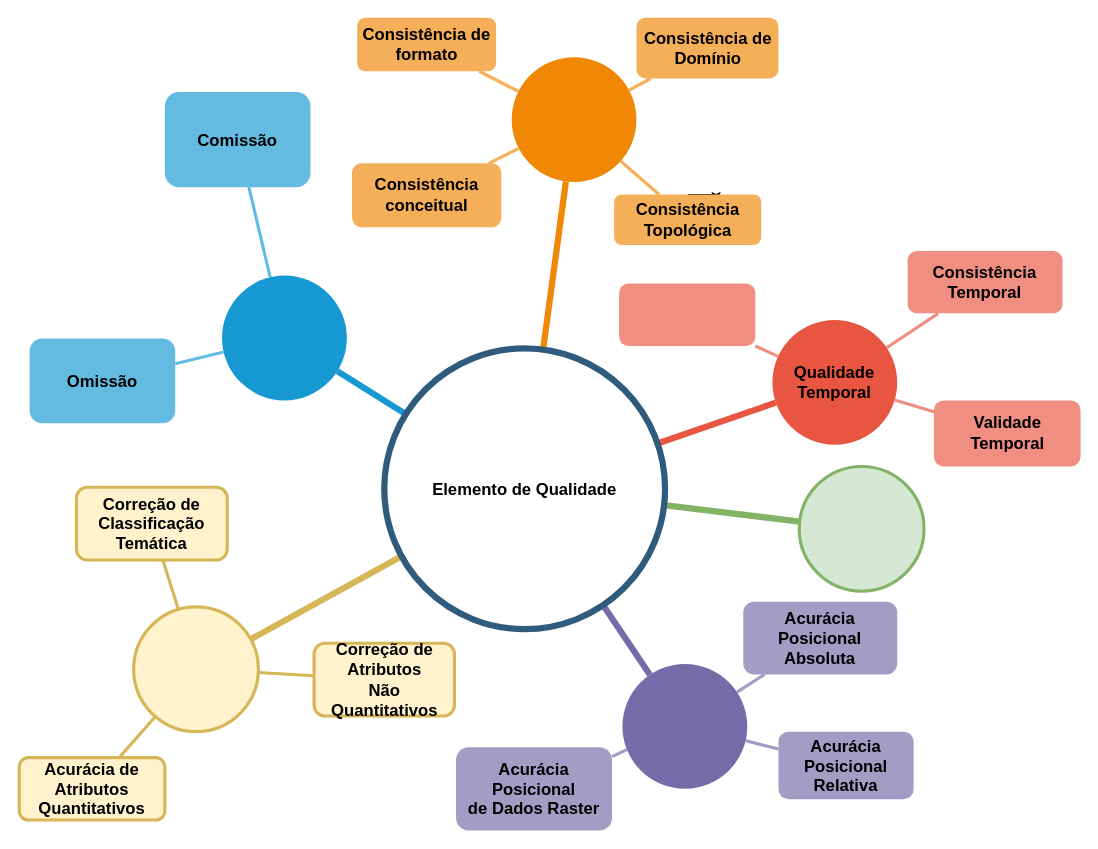
The diagram is 1098 pixels wide and 849 high, and some of its shapes have lost their labels. Each missing label, with the centre of its shape:
"Acurácia de Medição do Tempo" belongs at pixel 687 314.
"Acurácia Posicional" belongs at pixel 684 726.
"Acurácia Temática" belongs at pixel 195 669.
"Completude" belongs at pixel 284 337.
"Consistência Lógica" belongs at pixel 573 119.
"Elemento de Usabilidade" belongs at pixel 861 528.
